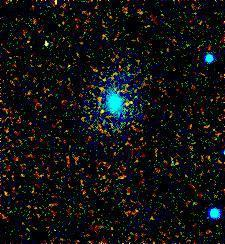star: (89, 96, 119, 126)
